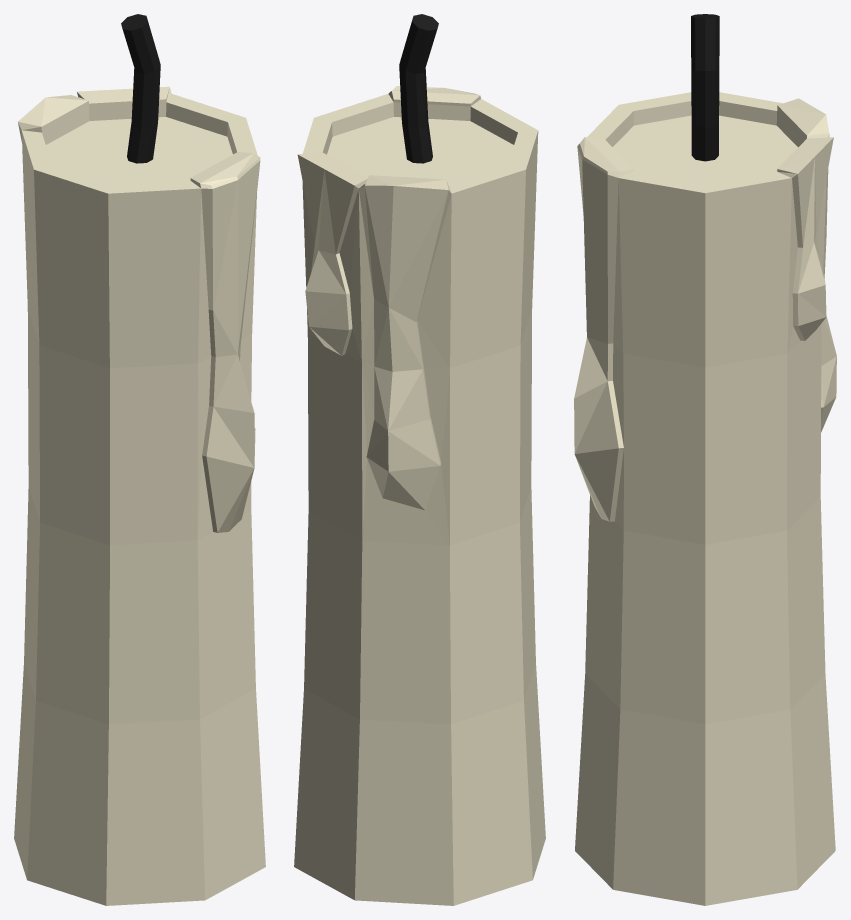
File: Candle.fbx
The picture shows the model from 3 angles, left to right: view 1: azimuth 30°, elevation 25°; view 2: azimuth 150°, elevation 25°; view 3: azimuth 270°, elevation 25°; orthographic projection.
Visible parts, largest first — view 1: Cylinder001; view 2: Cylinder001; view 3: Cylinder001.
Part boxes in pixels (x1,y1,x2,y2): Cylinder001: (14,14,265,905); Cylinder001: (294,14,545,905); Cylinder001: (574,14,836,905).
Size of the model in its own units: 10 by 35.35 by 10.08.
